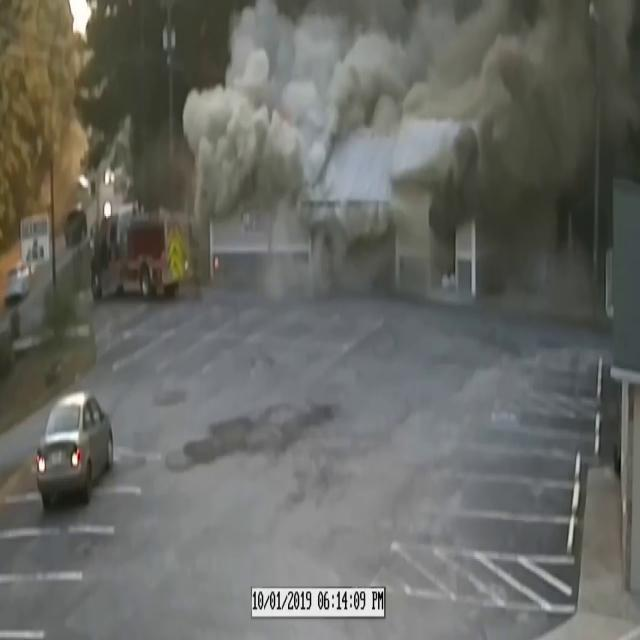Smoke: (159, 0, 640, 296)
